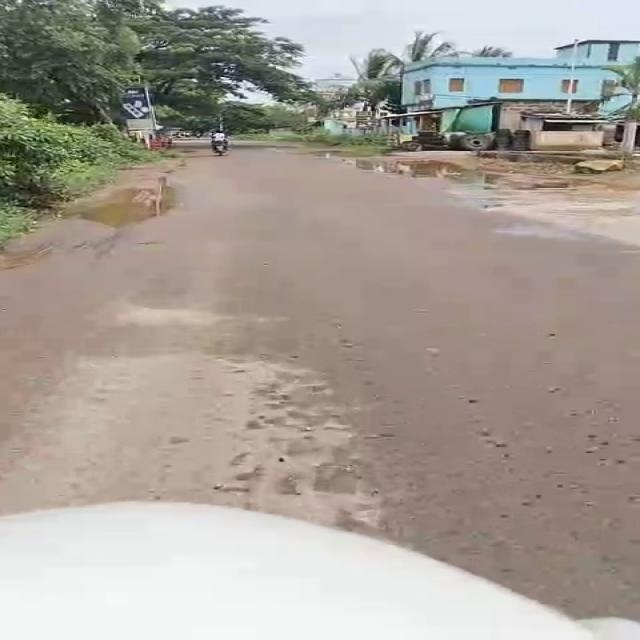pothole: (102, 192, 164, 222), (363, 158, 454, 178), (513, 180, 596, 193), (460, 168, 502, 184), (310, 147, 370, 158)
